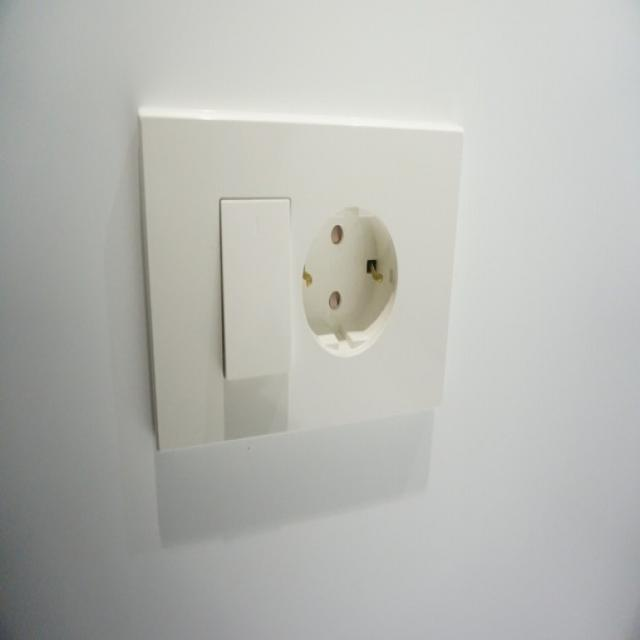typeb: (142, 95, 496, 457)
